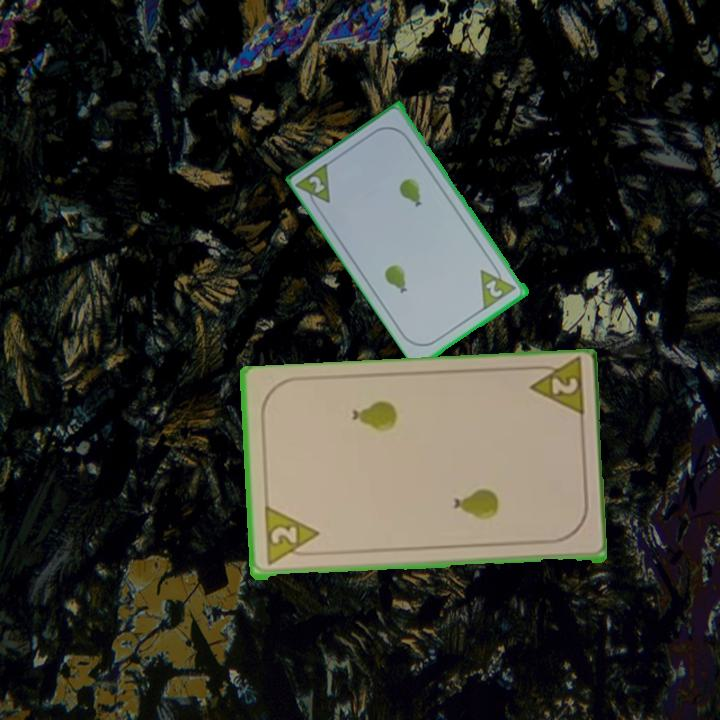2p: (523, 358, 587, 423), (260, 506, 322, 569), (482, 276, 506, 301), (305, 172, 328, 196)
